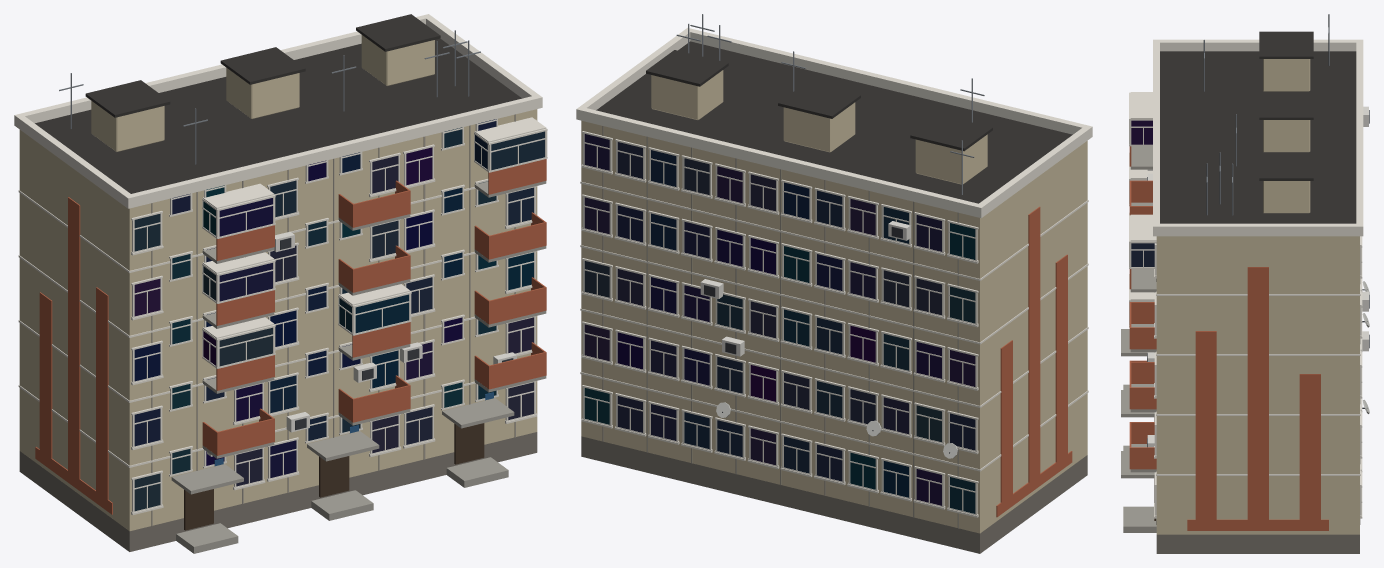
File: block_b.glb
3 views of the same model, side by side, from view 1: azimuth 30°, elevation 25°; view 2: azimuth 150°, elevation 25°; view 3: azimuth 270°, elevation 25° (orthographic). The views are drawn at different scales.
Parts seen in each view (by area): view 1: block_b; view 2: block_b; view 3: block_b.
Part boxes in pixels (box(x1,y1,x2,y2)): block_b: box(14, 14, 547, 553); block_b: box(576, 14, 1092, 553); block_b: box(1121, 14, 1369, 553).
Bounding box in the file's own units: 18.7 × 17.34 × 10.52.
